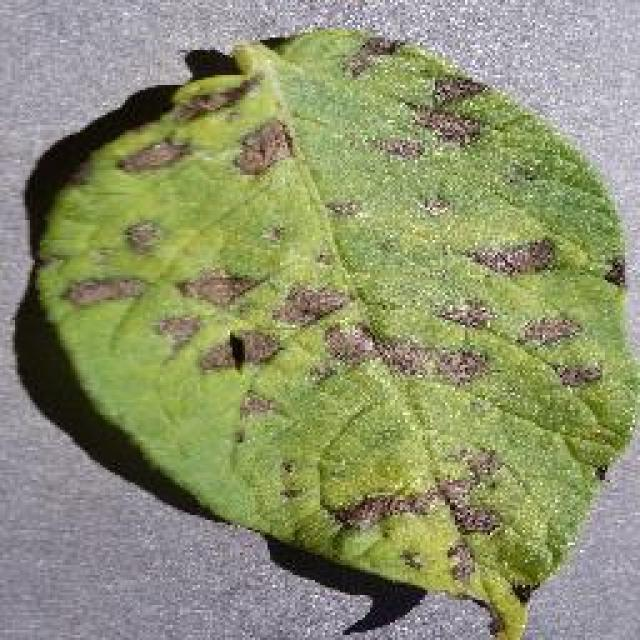Potato___Early_blight: (34, 25, 638, 638)
